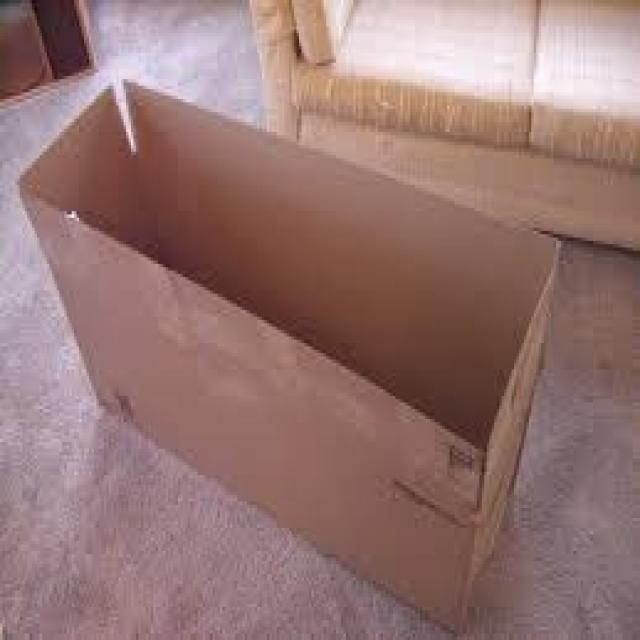cardboard paper: (21, 83, 555, 631)
